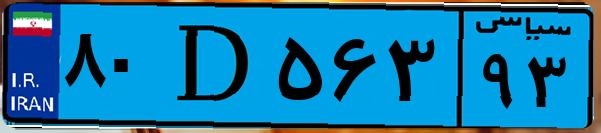0: (110, 28, 158, 98)
3: (385, 28, 445, 110), (525, 38, 570, 115)
5: (270, 28, 330, 110)
6: (330, 28, 385, 110)
8: (57, 26, 110, 100)
9: (475, 38, 525, 113)
D: (158, 12, 270, 120)
